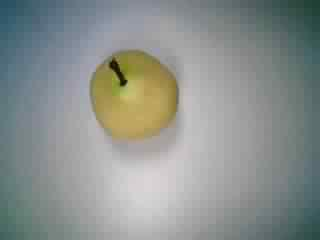pear: (74, 42, 192, 150)
